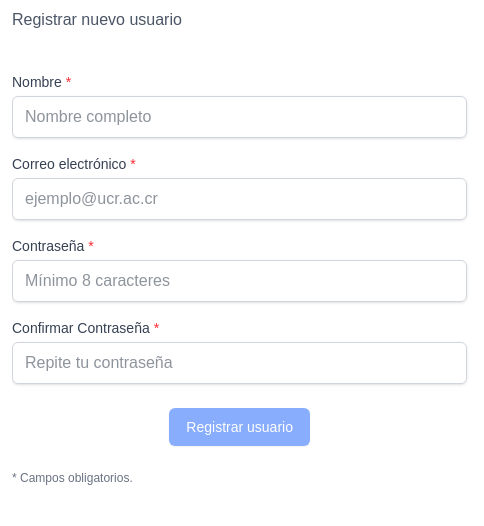
Test case: RegisterUser Component › validates name format correctly
Type "invalid-name" into the field labelled "Nombre *" at [240, 117], box [12,96,467,138]
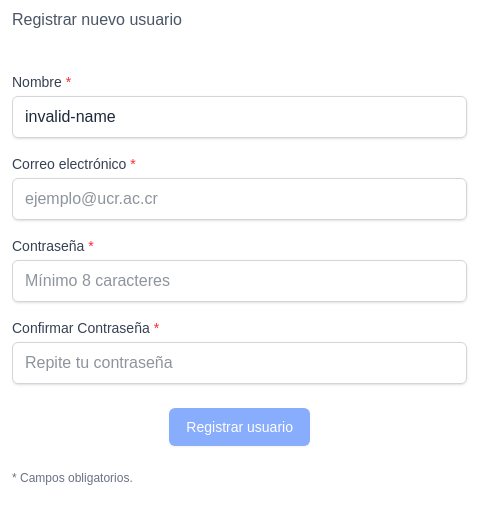
Leave the field labelled "Nombre *", box [12,96,467,138]
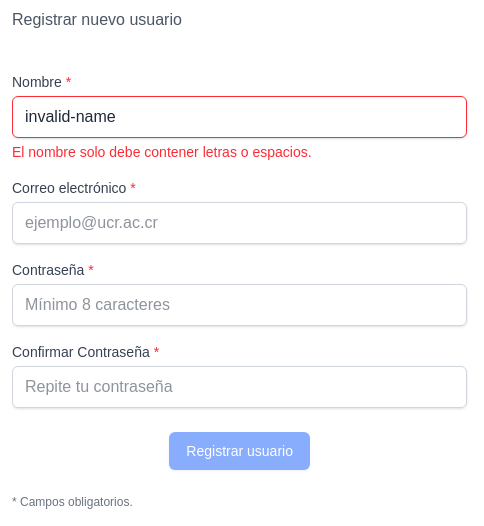
Expected: the text "El nombre solo debe contener letras o espacios." is shown, [12,144,312,160]
